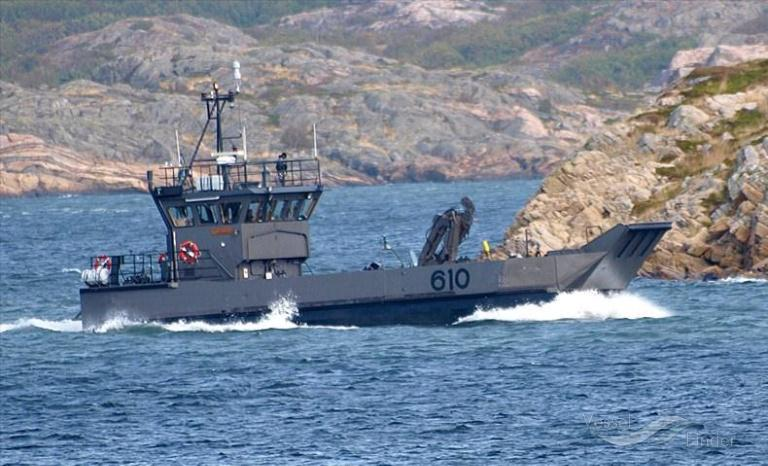OCR: (428, 262, 475, 292)
